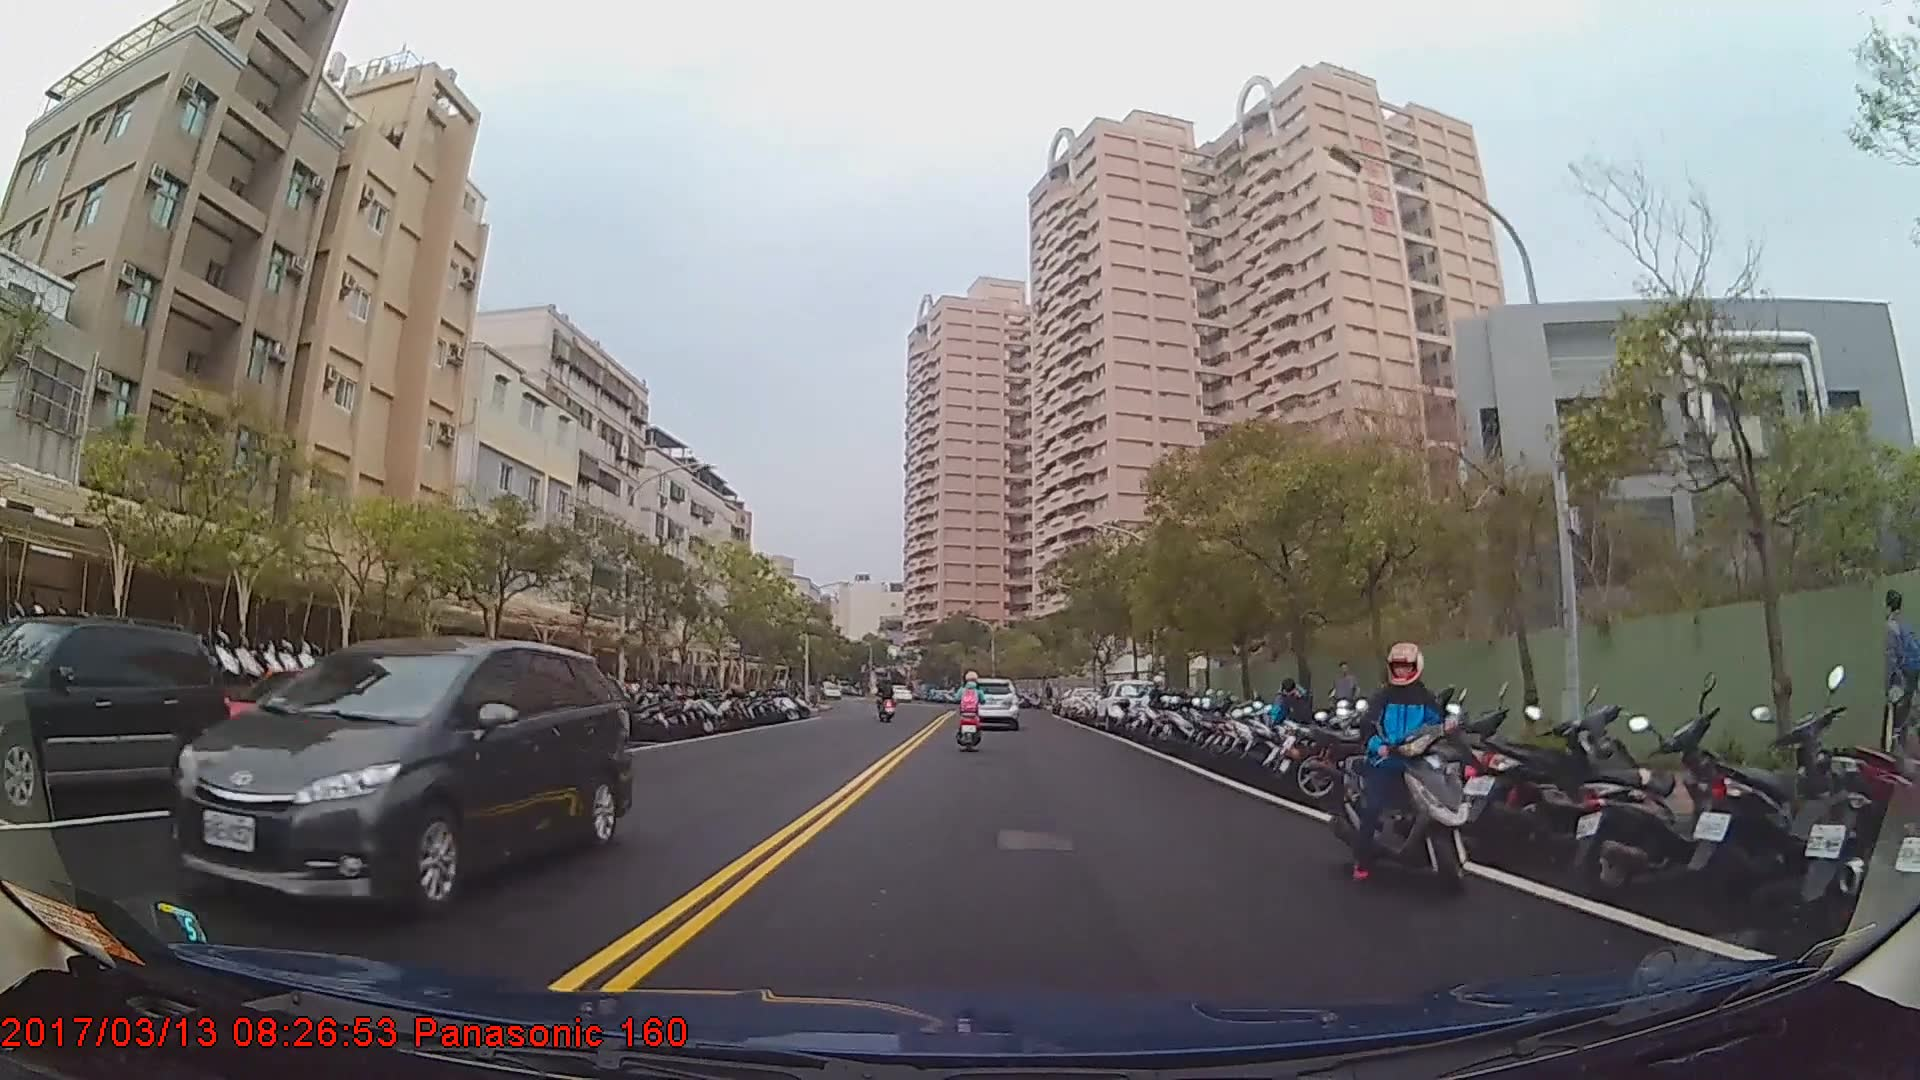pedestrian: (1876, 589, 1920, 796), (1270, 679, 1317, 773)
rider: (1340, 637, 1471, 891), (953, 673, 986, 751), (876, 680, 897, 723)
vehicle: (171, 633, 634, 916), (0, 613, 227, 816), (1094, 678, 1167, 734), (963, 675, 1018, 726)
